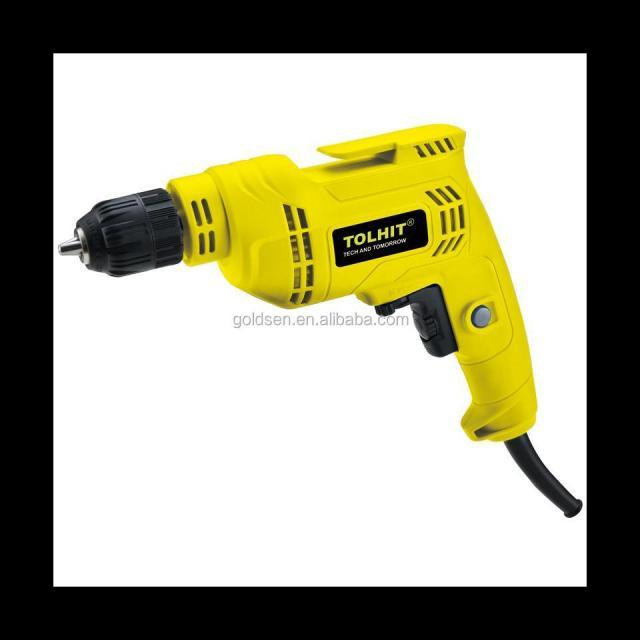drill: (57, 123, 584, 520)
